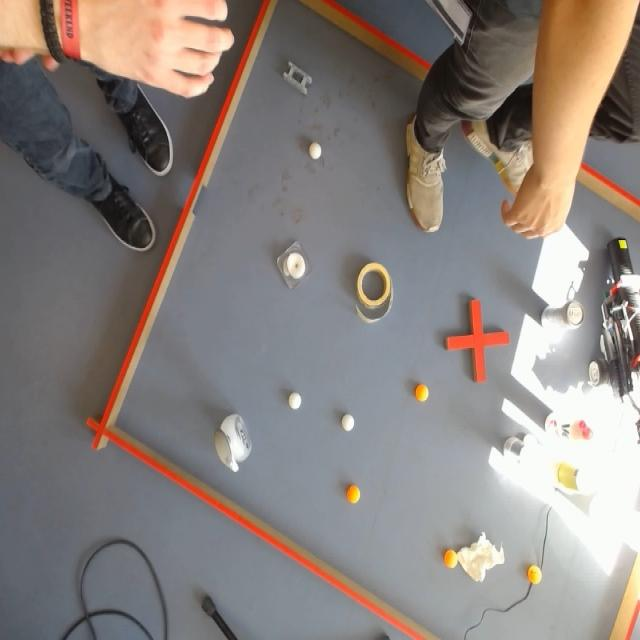orange: (412, 382, 432, 405), (344, 484, 362, 505), (526, 566, 542, 586), (443, 548, 457, 569)
robot: (588, 237, 640, 444)
robot-front: (608, 237, 632, 275)
white: (286, 391, 304, 413), (339, 411, 356, 434), (308, 141, 324, 162)
